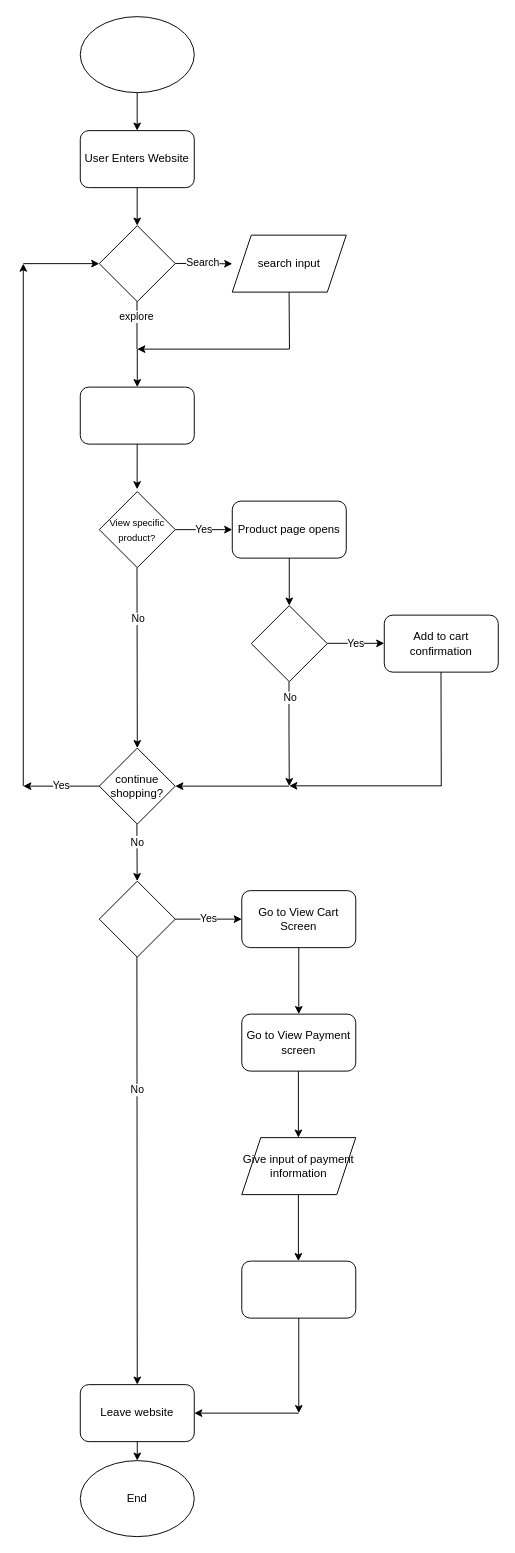
Image size: 515x1553. Some labels were removed from this diagram. Here are the shapes that lost their labels. From the top down, the centre of each, then its label:
At [136,54]: "Start".
At [136,263]: "Search or Explore".
At [136,415]: "user looks over products".
At [288,643]: "Add to cart?".
At [136,918]: "Checkout?".
At [298,1289]: "See order confirmation and recieve confirmation email".
